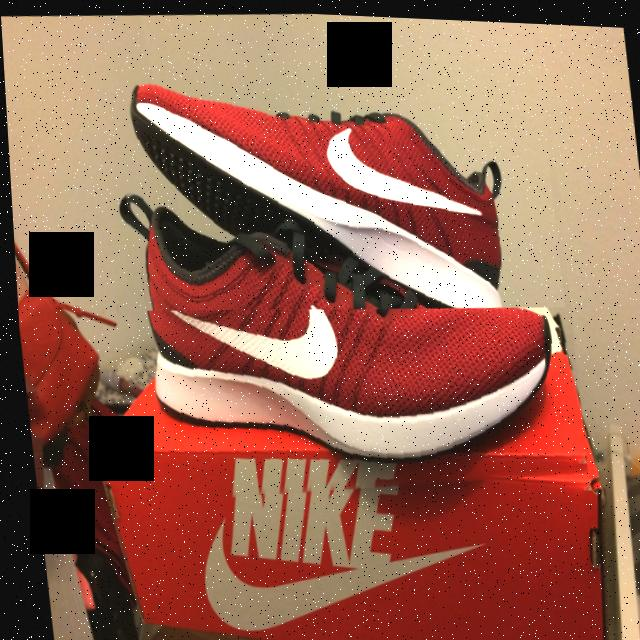shoe: (93, 145, 589, 519), (108, 47, 563, 325)
